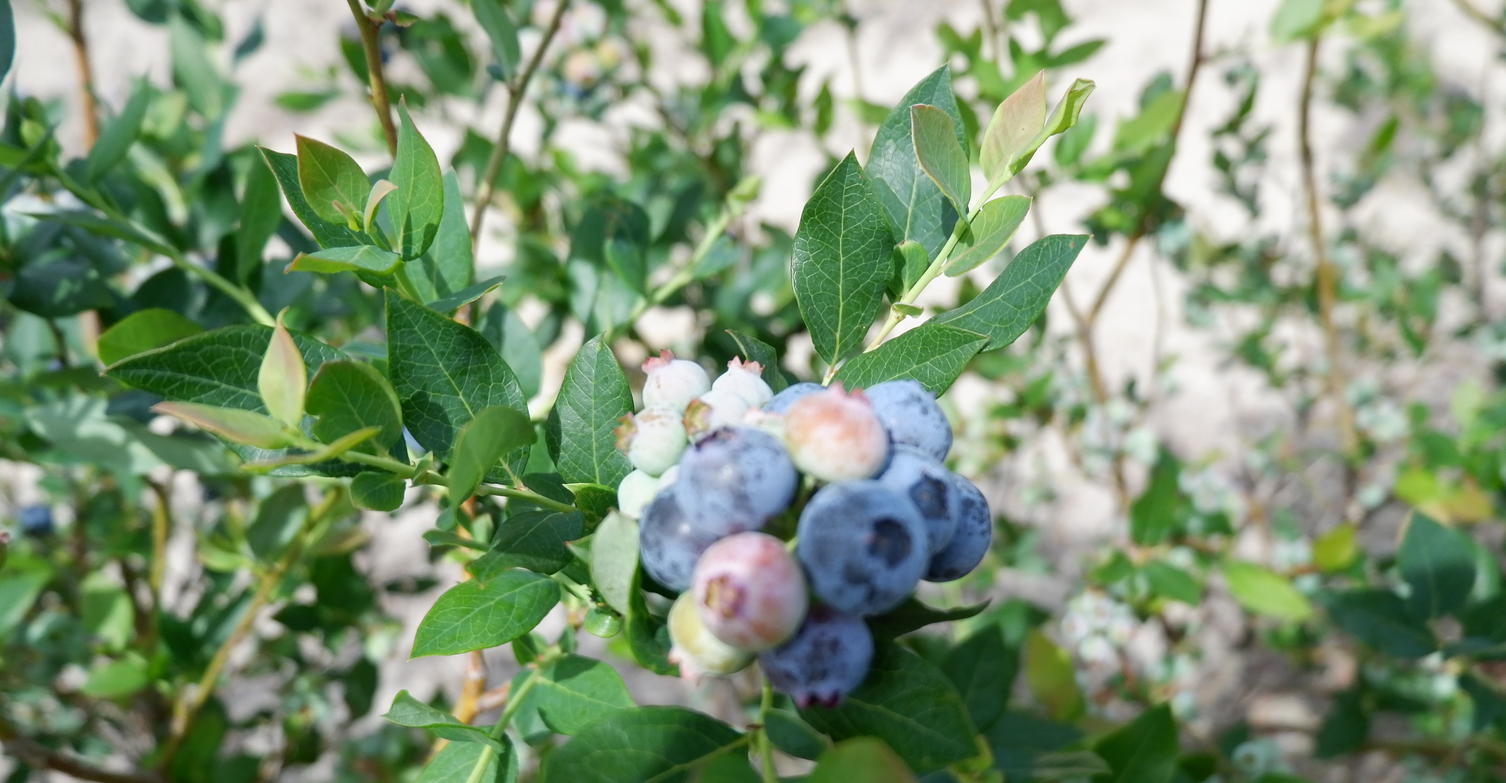Immature: (695, 539, 808, 649), (786, 393, 883, 480), (671, 592, 755, 676), (616, 410, 683, 473), (641, 352, 710, 411), (684, 393, 747, 440), (712, 360, 769, 407), (620, 472, 668, 515)
Mature: (799, 484, 927, 614), (673, 427, 796, 534), (868, 447, 961, 578), (760, 597, 871, 705), (641, 491, 715, 591), (866, 382, 950, 462), (928, 474, 990, 579), (766, 386, 823, 410)
